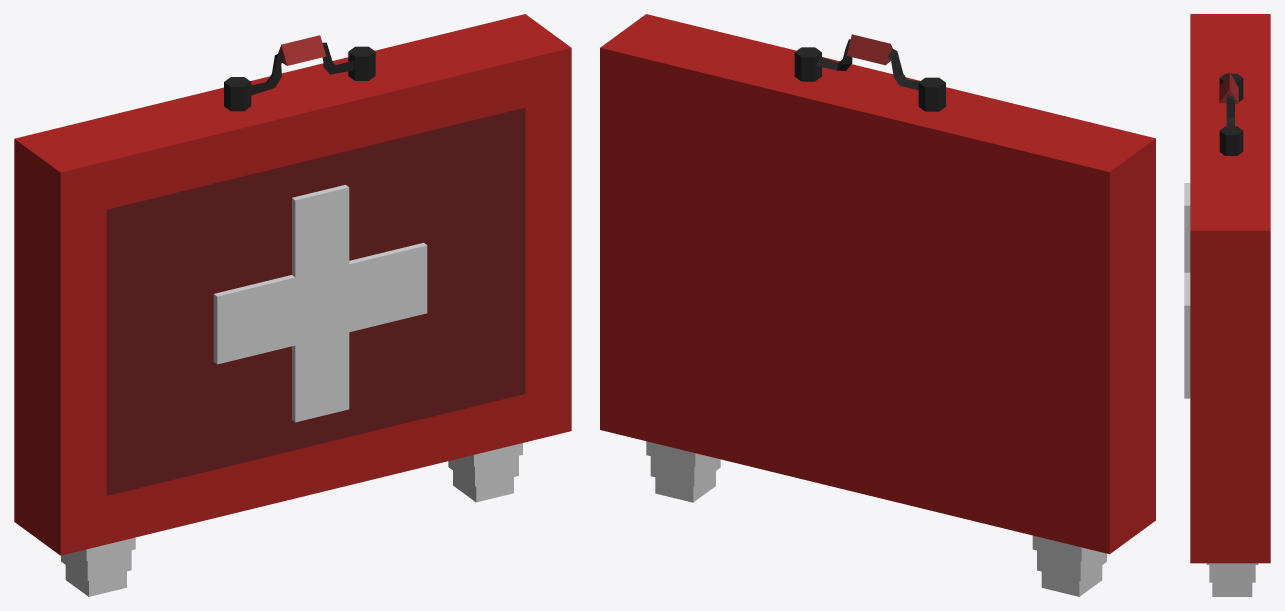
Rendered from aaaaaaa.fbx.
The picture shows the model from 3 angles, left to right: view 1: azimuth 30°, elevation 25°; view 2: azimuth 150°, elevation 25°; view 3: azimuth 270°, elevation 25°; orthographic projection. The views are drawn at different scales.
Parts seen in each view (by area): view 1: Case, Handle, JetLeft, JetRight; view 2: Case, Handle, JetLeft, JetRight; view 3: Case, Handle, JetRight.
Boxes of the visible parts, bbox=[...] form: Case: bbox=[14, 14, 571, 555]; Handle: bbox=[224, 35, 375, 111]; JetLeft: bbox=[61, 537, 135, 596]; JetRight: bbox=[448, 443, 522, 502]; Case: bbox=[600, 14, 1155, 554]; Handle: bbox=[794, 34, 945, 111]; JetLeft: bbox=[1032, 535, 1106, 596]; JetRight: bbox=[646, 441, 720, 502]; Case: bbox=[1184, 14, 1270, 563]; Handle: bbox=[1219, 72, 1243, 155]; JetRight: bbox=[1206, 563, 1258, 596].
Bounding box in the file's own units: 37.76 × 34.99 × 6.38.
